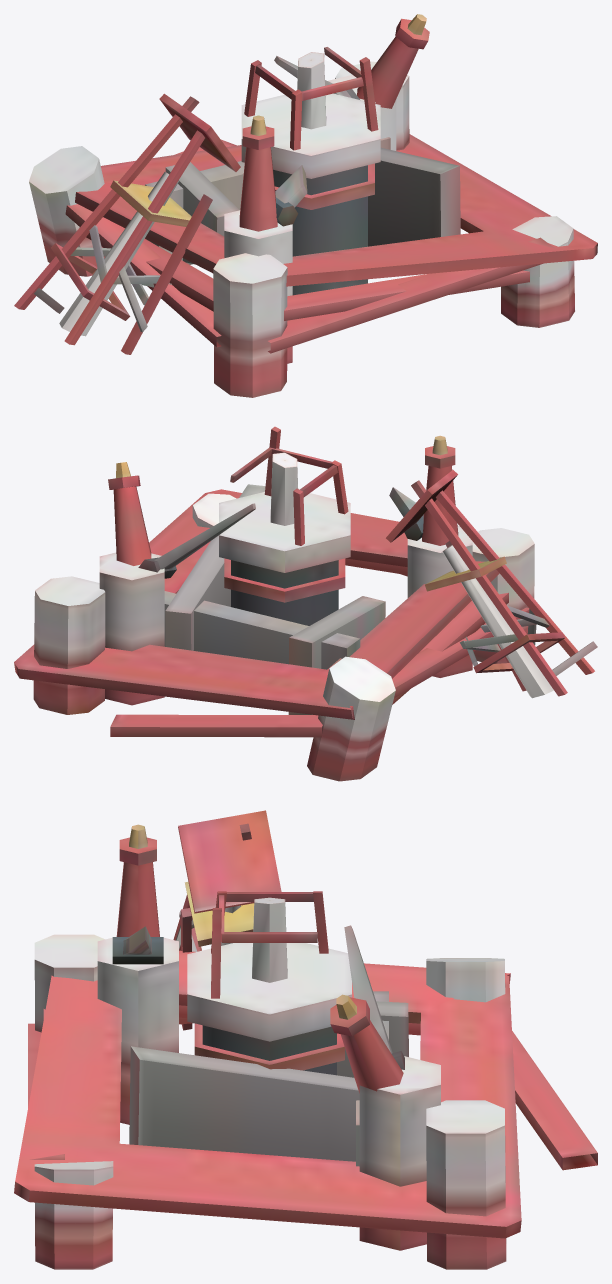
File: 破损油井.glb
3 renders of one model, top to bottom at view 1: azimuth 30°, elevation 25°; view 2: azimuth 150°, elevation 25°; view 3: azimuth 270°, elevation 25°, orthographic. The views are drawn at different scales.
Visible parts, largest first — view 1: CAIYOUPINGTAI_H1; view 2: CAIYOUPINGTAI_H1; view 3: CAIYOUPINGTAI_H1.
Boxes of the visible parts, bbox=[...] form: CAIYOUPINGTAI_H1: bbox=[14, 14, 597, 397]; CAIYOUPINGTAI_H1: bbox=[14, 426, 597, 781]; CAIYOUPINGTAI_H1: bbox=[14, 810, 597, 1269].
Size of the model in its own units: 7.16 by 3.36 by 6.35.
1 material, 1 textured.
